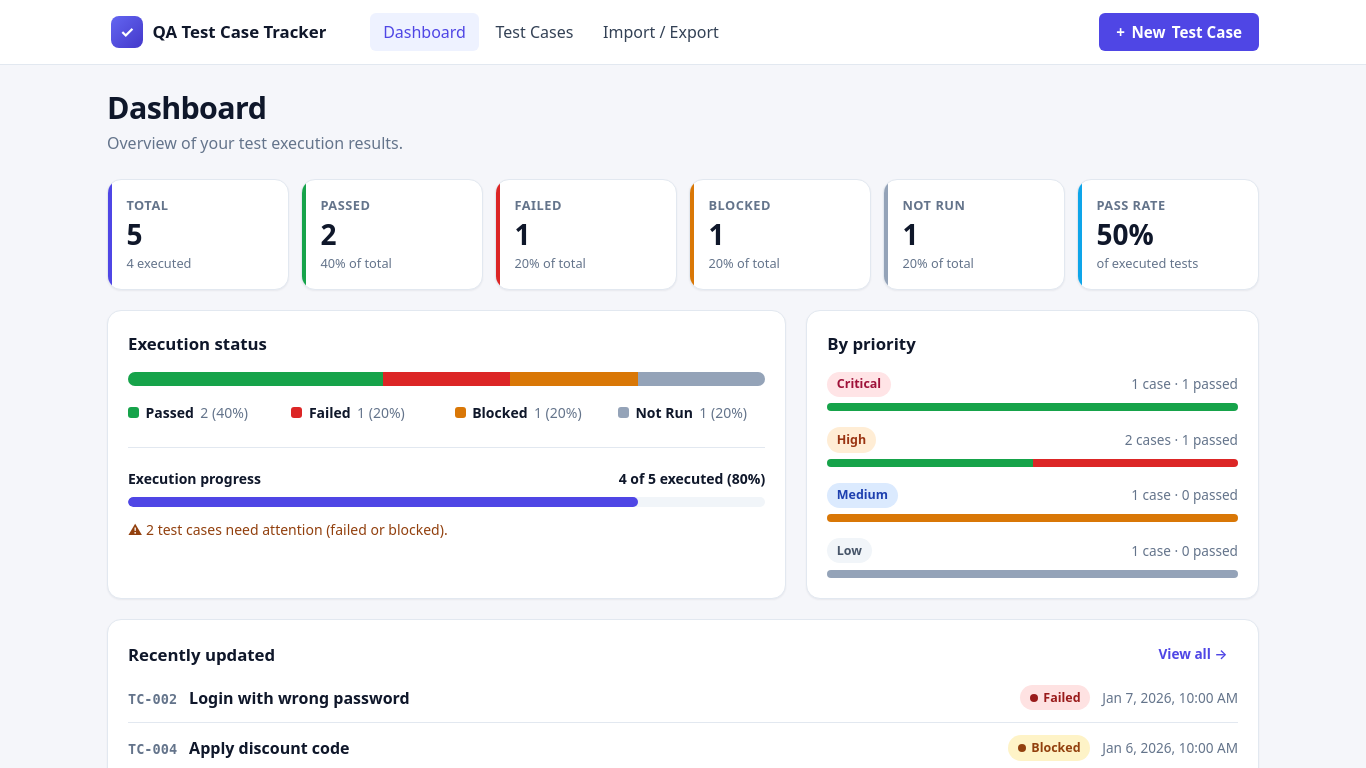
Test: App › loads saved data from localStorage
The width and height of the screenshot is (1366, 768).
Click the button "Test Cases" at [534, 32], box [483,13,586,51]
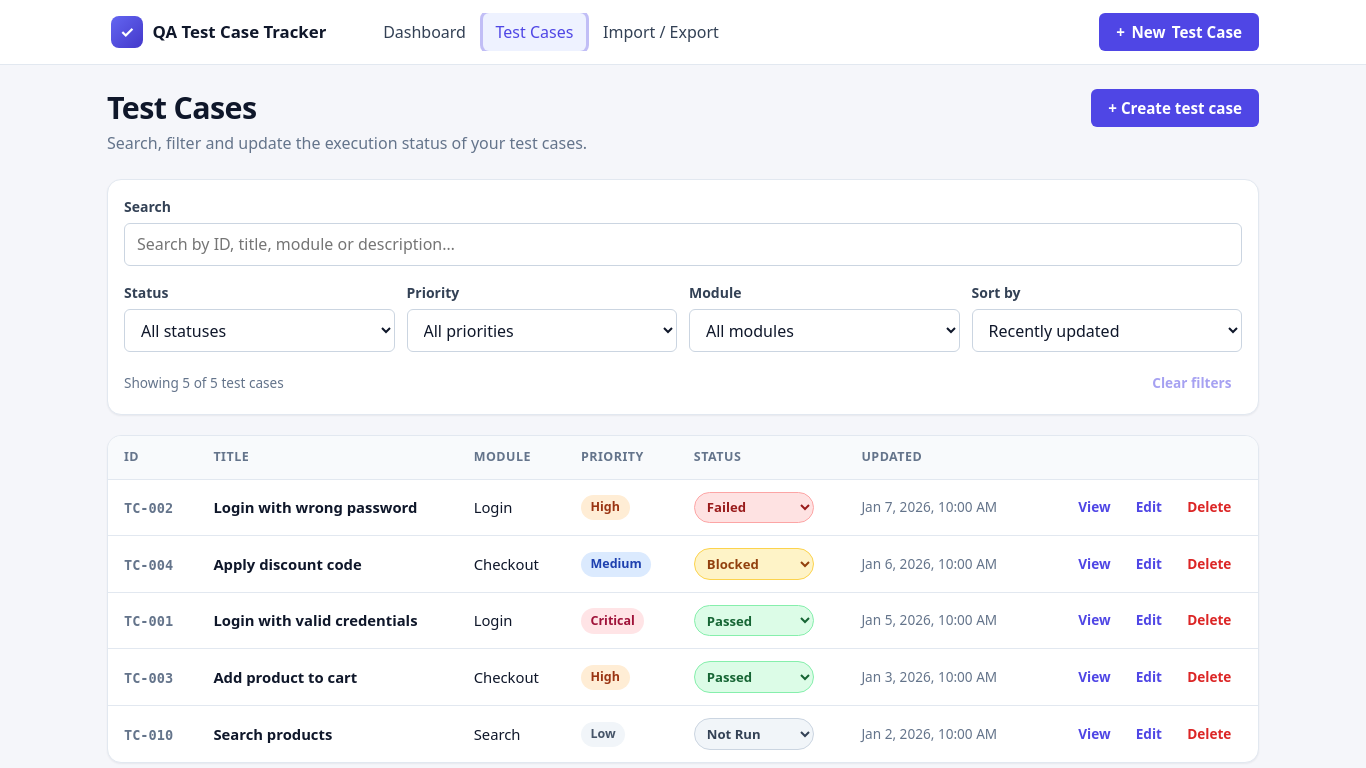
Result: the number of rows is 6 at [108,436,1258,479]; [108,480,1258,536]; [108,536,1258,592]; [108,592,1258,649]; [108,649,1258,706]; [108,706,1258,762]
